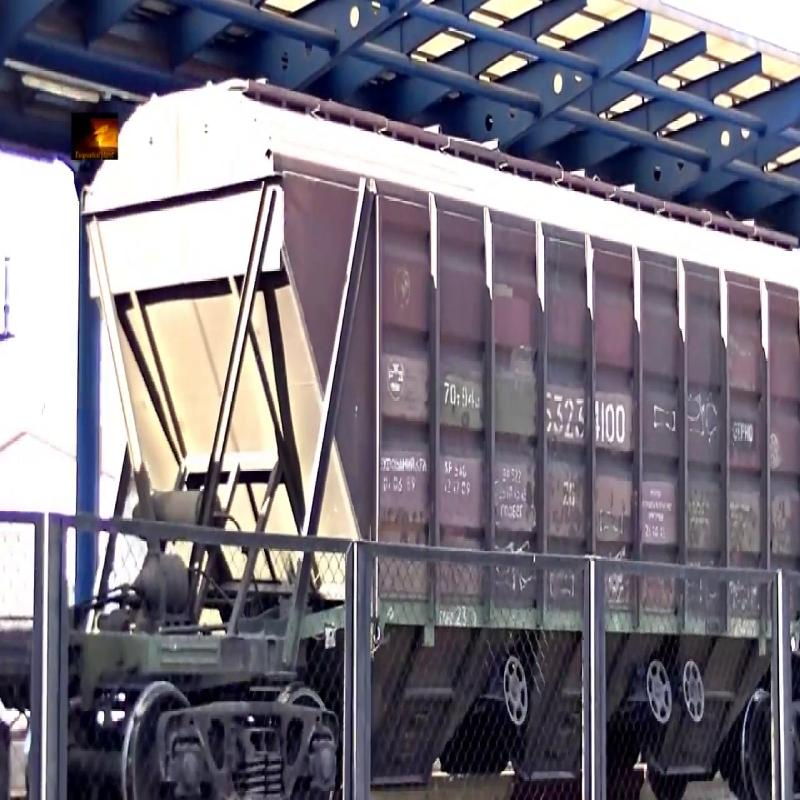train: (80, 22, 800, 770)
